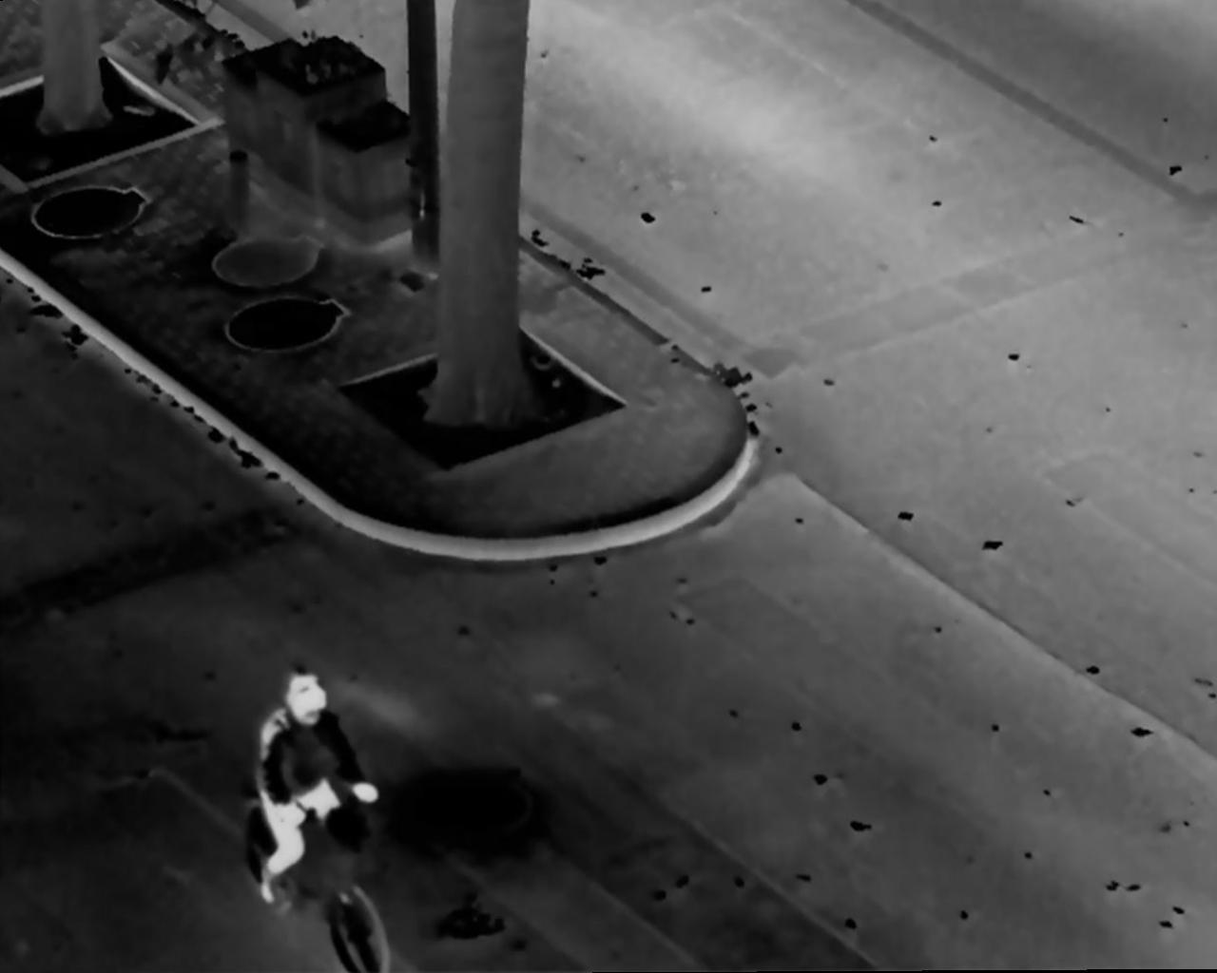person: (254, 669, 380, 932)
